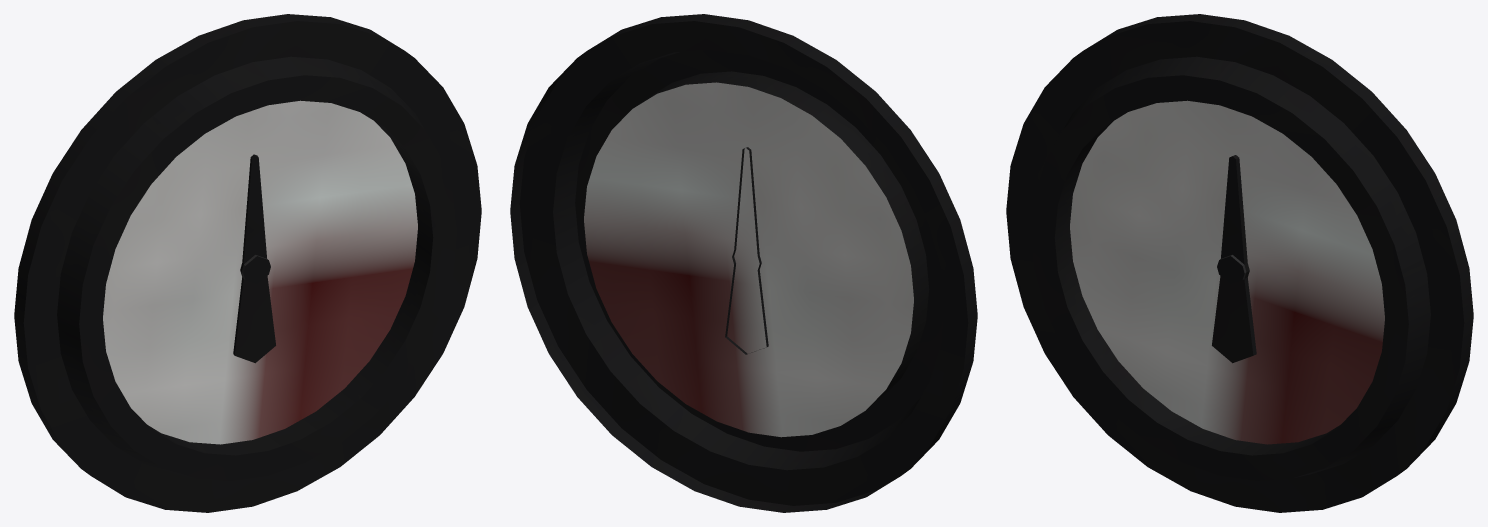
Rendered from dial.fbx.
3 views of the same model, side by side, from view 1: azimuth 30°, elevation 25°; view 2: azimuth 150°, elevation 25°; view 3: azimuth 330°, elevation 25° (orthographic).
Parts seen in each view (by area): view 1: dial_hand, Cylinder.001; view 2: dial_hand, Cylinder.001; view 3: dial_hand, Cylinder.001.
Boxes of the visible parts, x1,y1,x2,y2 form: dial_hand: (14, 14, 481, 512); Cylinder.001: (233, 154, 275, 363); dial_hand: (510, 14, 977, 512); Cylinder.001: (725, 147, 768, 354); dial_hand: (1006, 14, 1473, 512); Cylinder.001: (1212, 155, 1256, 363).
Size of the model in its own units: 0.3296 by 0.3296 by 0.0309.
